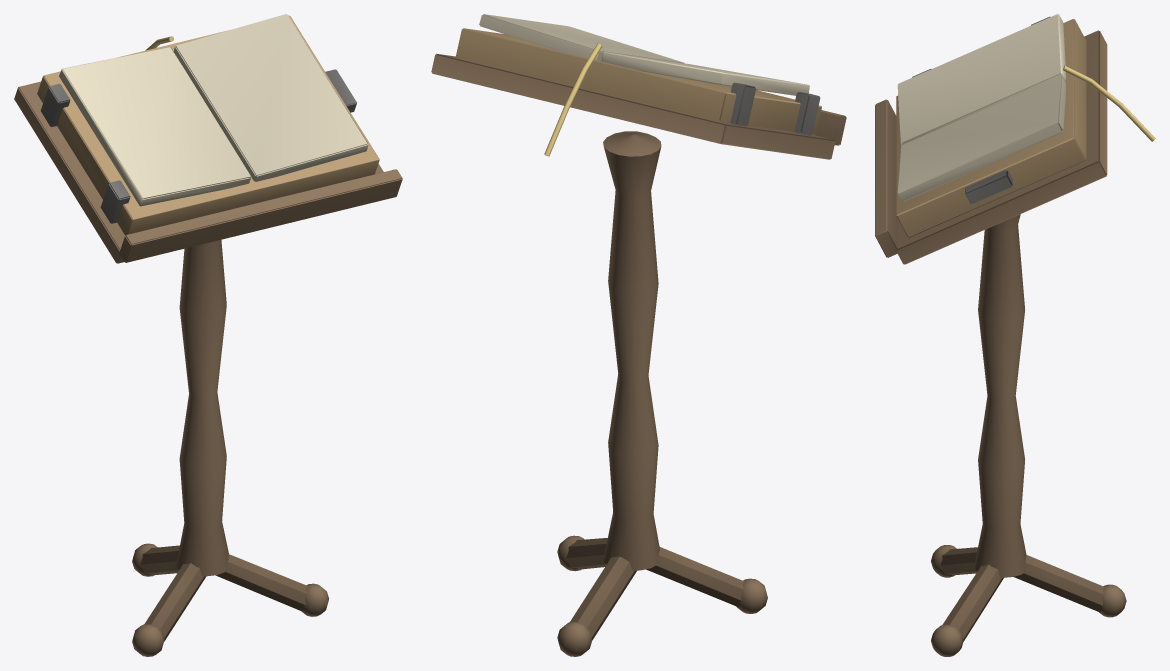
The model's file is obj_kit_bookstand.glb.
3 views of the same model, side by side, from view 1: azimuth 30°, elevation 25°; view 2: azimuth 150°, elevation 25°; view 3: azimuth 270°, elevation 25° (orthographic). The views are drawn at different scales.
Visible parts, largest first — view 1: top, post, foot.002, foot.001, foot, Sphere.001, Sphere.002; view 2: top, post, foot.001, foot, foot.002, Sphere, Sphere.001; view 3: top, post, foot, foot.002, foot.001, Sphere.002, Sphere.
Part boxes in pixels (box(x1,y1,x2,y2)): top: box(14, 14, 402, 263); post: box(176, 240, 228, 576); foot.002: box(216, 554, 308, 611); foot.001: box(144, 563, 206, 641); foot: box(140, 545, 179, 575); Sphere.001: box(132, 624, 164, 656); Sphere.002: box(302, 583, 328, 616); top: box(431, 14, 846, 159); post: box(603, 131, 661, 570); foot.001: box(646, 547, 744, 607); foot: box(570, 556, 636, 640); foot.002: box(566, 538, 607, 570); Sphere: box(557, 621, 591, 656); Sphere.001: box(736, 578, 767, 613); top: box(875, 14, 1155, 264); post: box(974, 214, 1026, 577); foot: box(1013, 555, 1104, 612); foot.002: box(942, 564, 1003, 641); foot.001: box(940, 547, 977, 576); Sphere.002: box(931, 624, 963, 656); Sphere: box(1099, 584, 1126, 617).
Bounding box in the file's own units: 0.66 × 1.29 × 0.5951.
